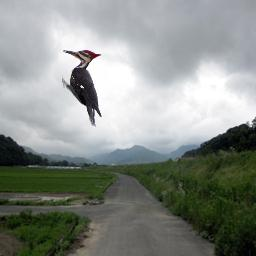Woodpecker: (62, 50, 102, 127)
